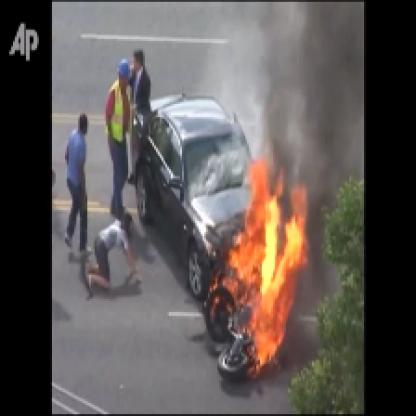Fire: (204, 154, 310, 383)
Smoke: (260, 2, 364, 171)
